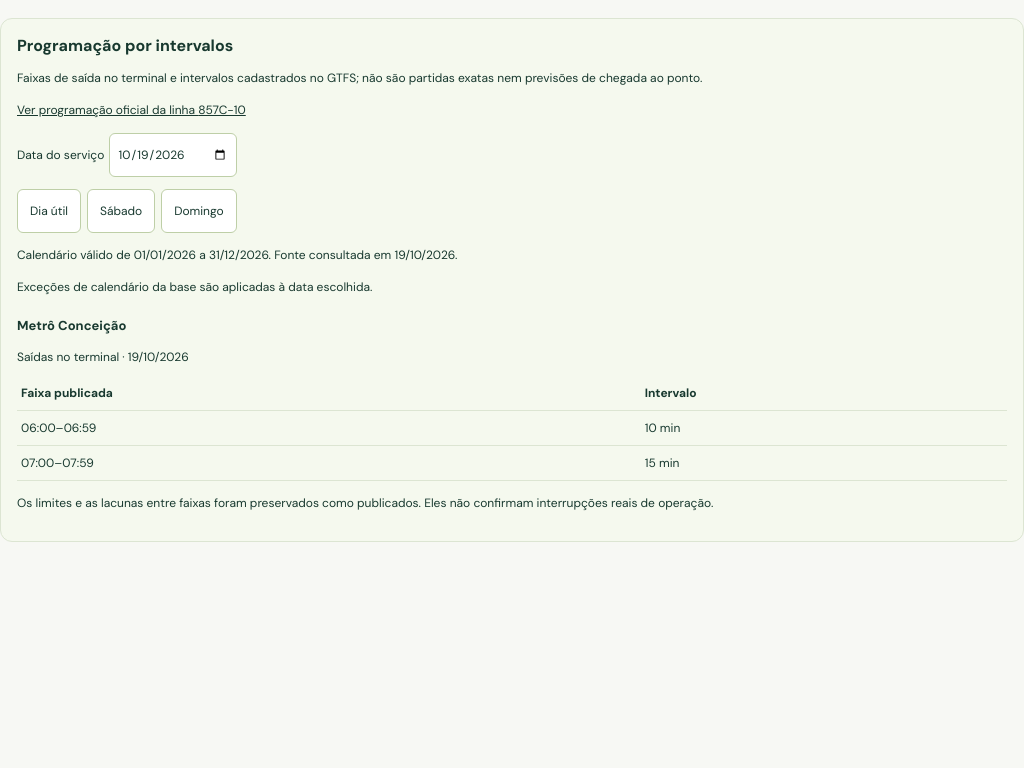
it: aplica exceções à data do serviço e os atalhos de sábado/domingo
The image size is (1024, 768).
Expected: the table is shown, left=17, top=340, right=1007, bottom=481
Type "2026-10-20" into the date field labelled "Data do serviço".
click(173, 155); type("2026-10-20")  # box left=109, top=133, right=237, bottom=177
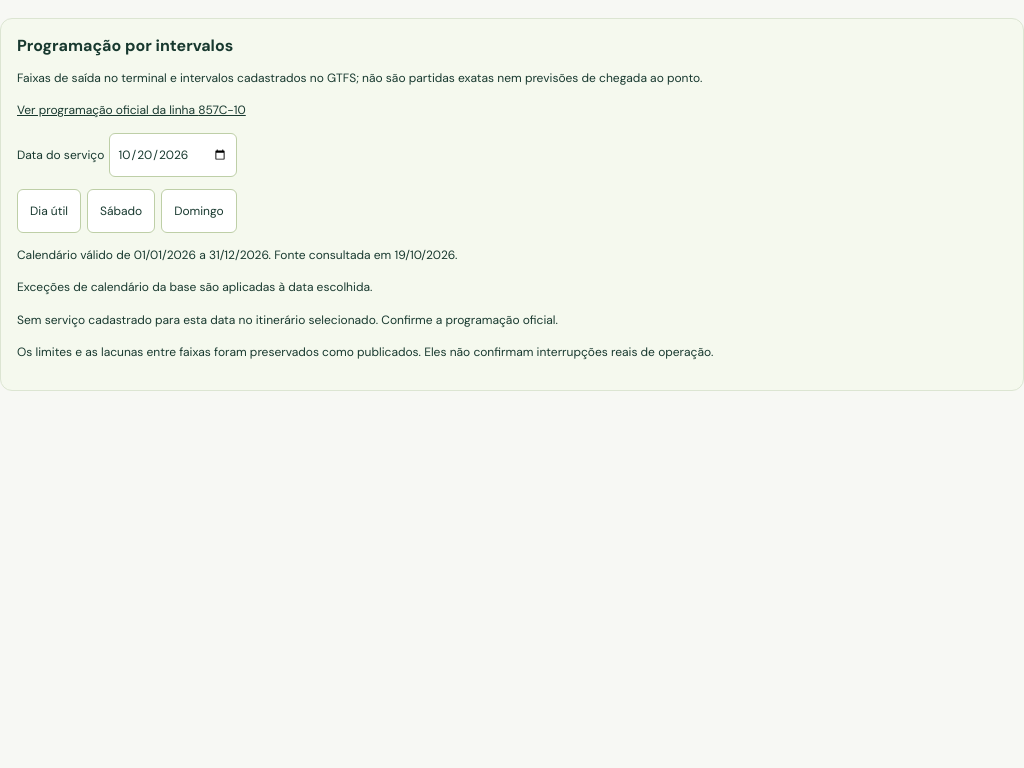
Expected: the table is gone
Expected: the text "Sem serviço cadastrado para esta data" is shown, left=17, top=312, right=558, bottom=328
Click the button "Sábado".
click(121, 211)  # box left=87, top=189, right=155, bottom=233
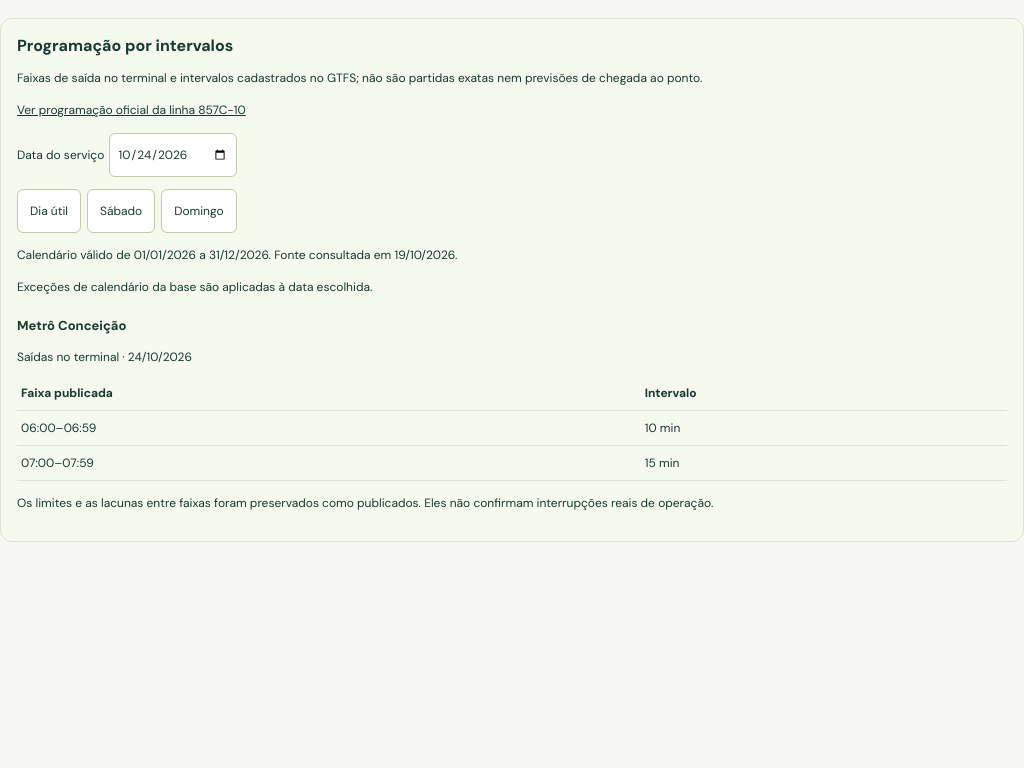
Expected: the table is shown, left=17, top=340, right=1007, bottom=481
Click the button "Domingo".
click(199, 211)  # box left=161, top=189, right=237, bottom=233
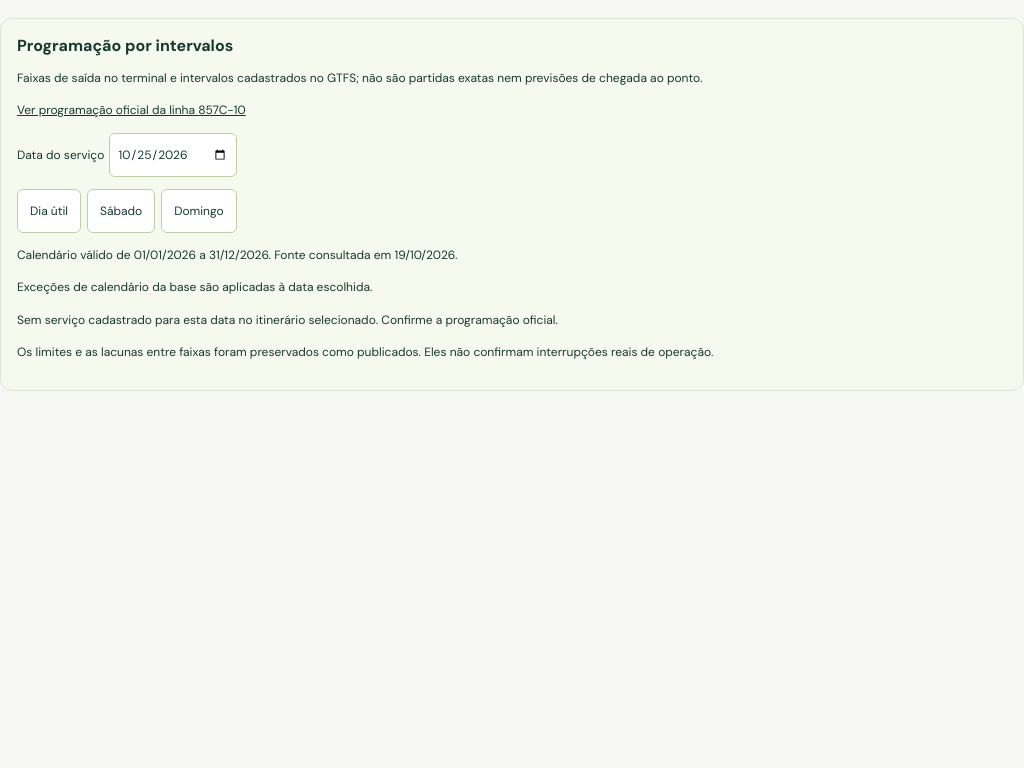
Expected: the table is gone
Click the button "Dia útil".
click(49, 211)  # box left=17, top=189, right=81, bottom=233
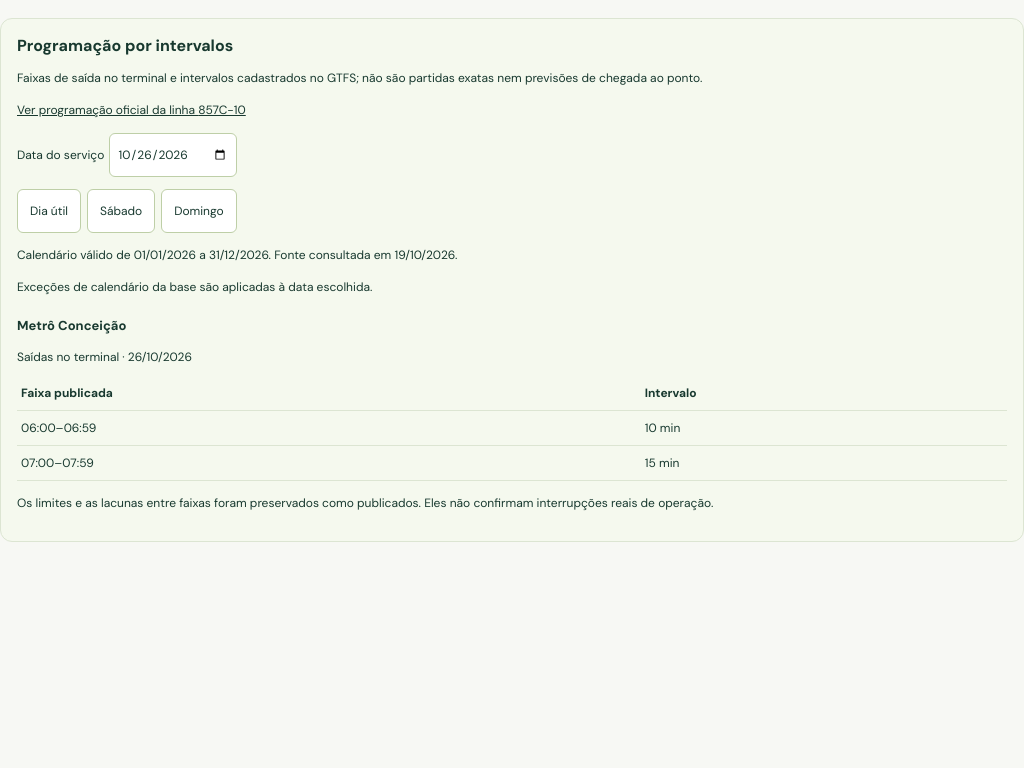
Expected: the table is shown, left=17, top=340, right=1007, bottom=481
